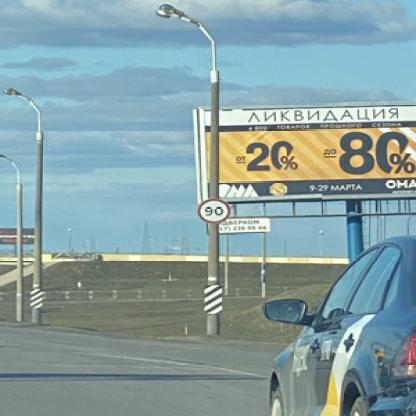speedlimit: (196, 198, 228, 222)
